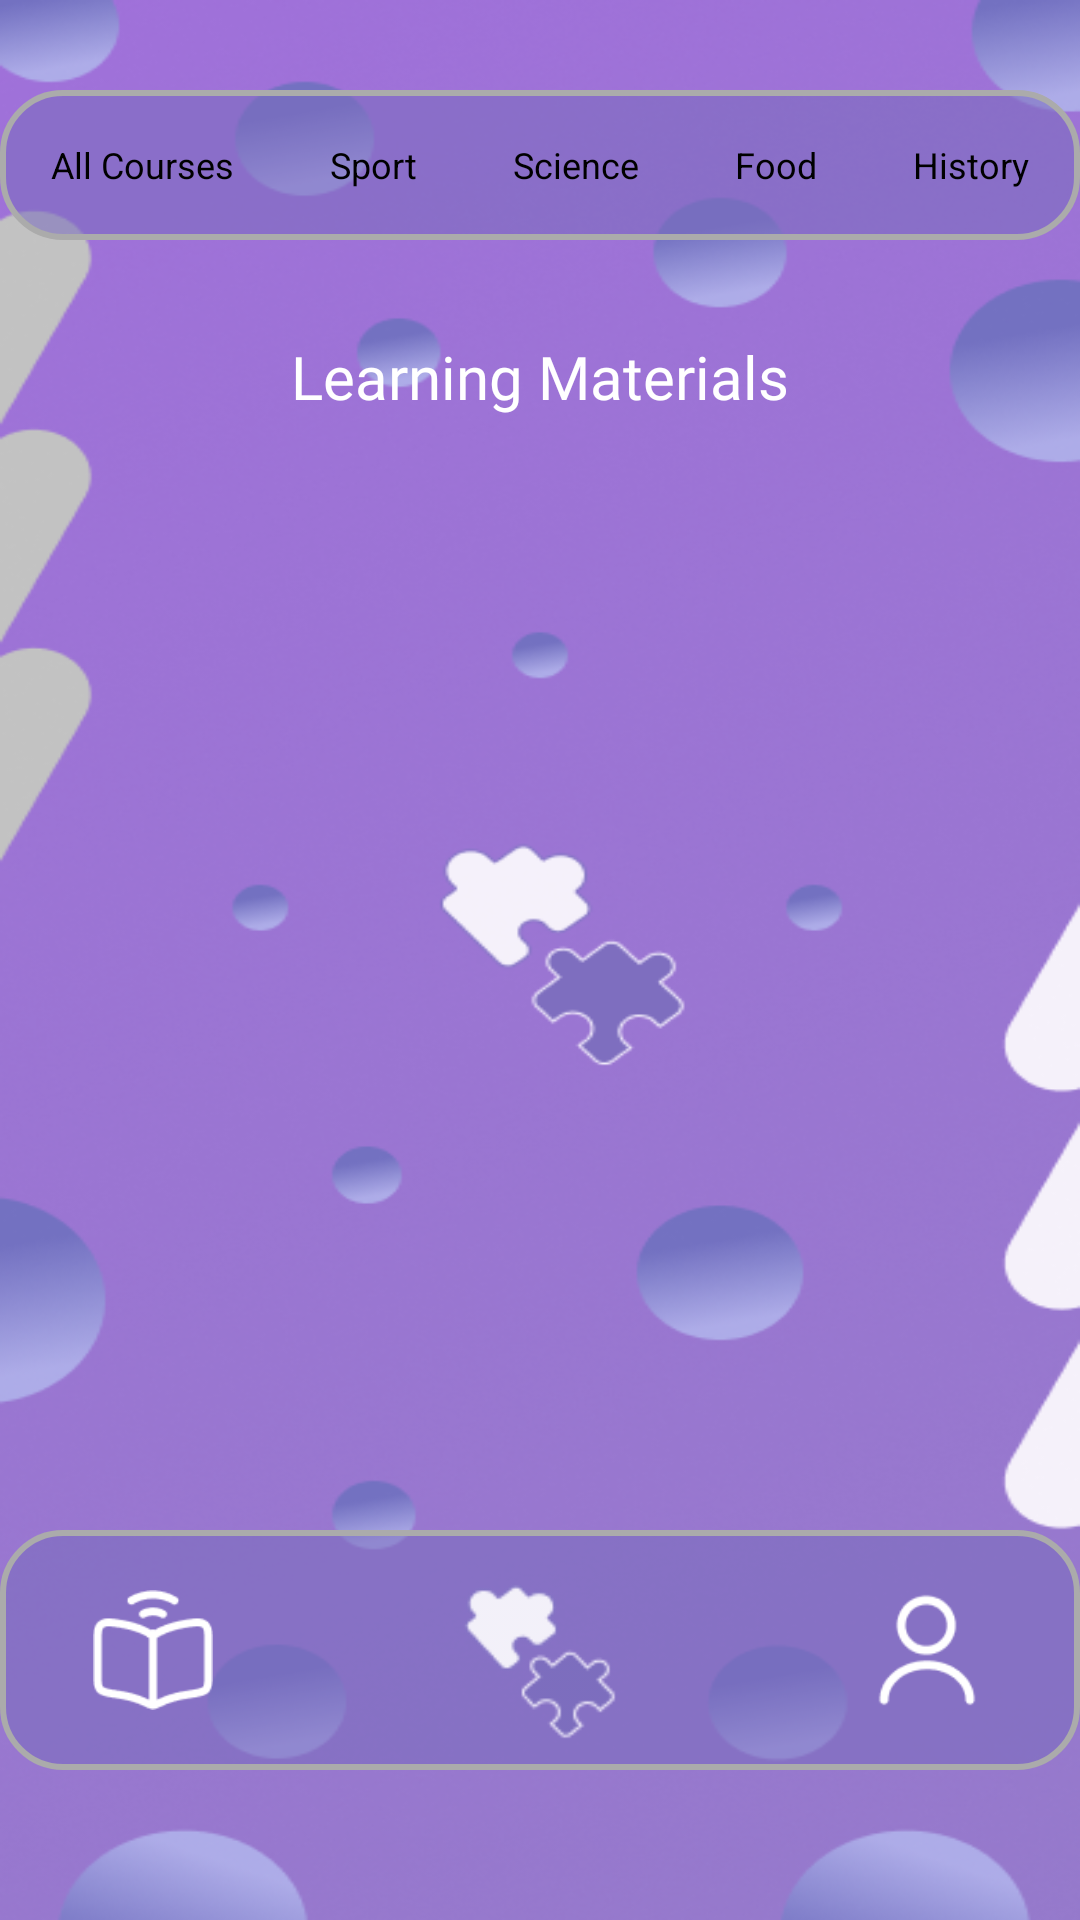

Where icons sit on this 1080px×1920px app screen, as detection(x1, y1, x2, y2):
Learn: detection(93, 1590, 213, 1710)
Profile: detection(879, 1595, 975, 1705)
